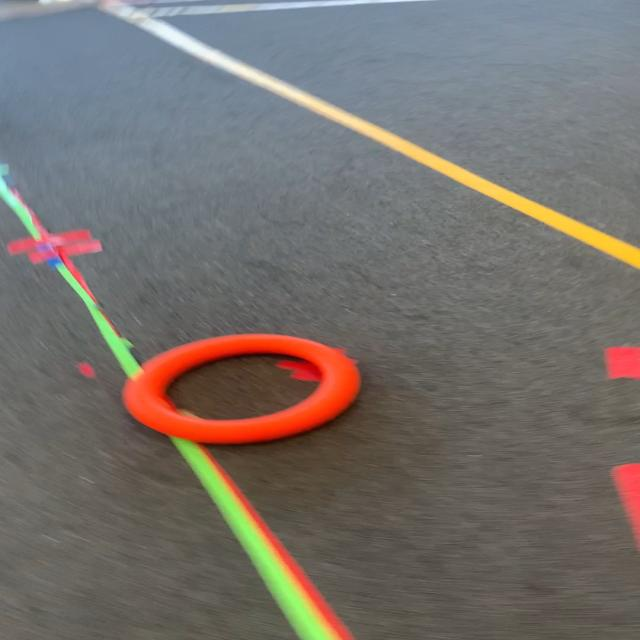notes: (122, 336, 360, 442)
